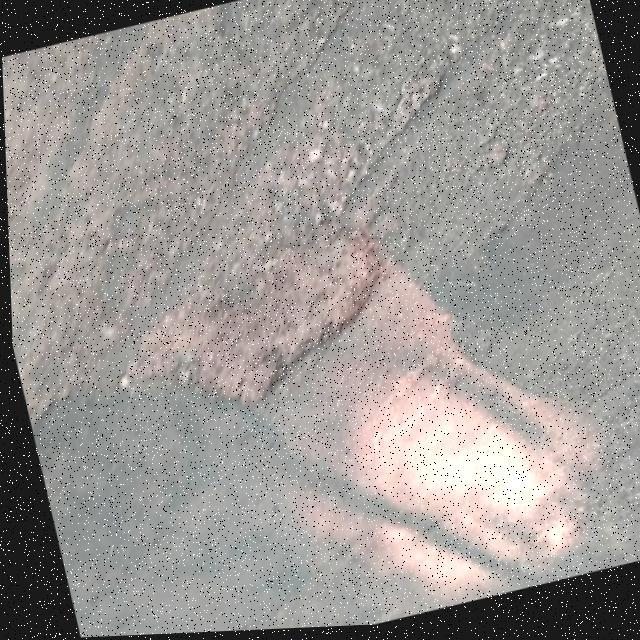pothole: (84, 204, 418, 454)
